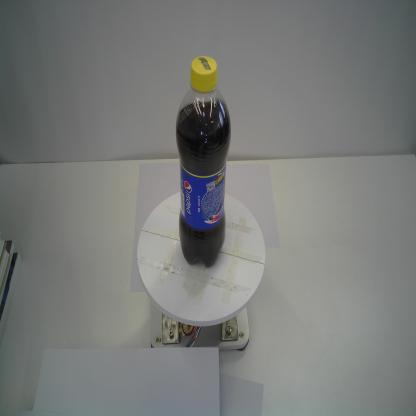Drink: (175, 53, 231, 269)
